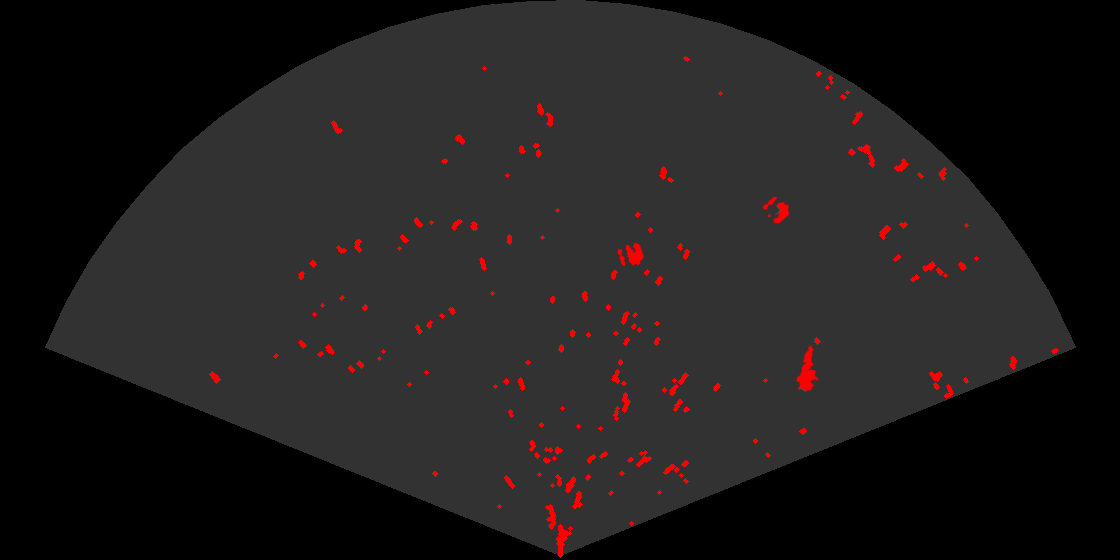ball: (761, 195, 791, 225), (616, 241, 646, 268)
frogman: (795, 343, 820, 393)
